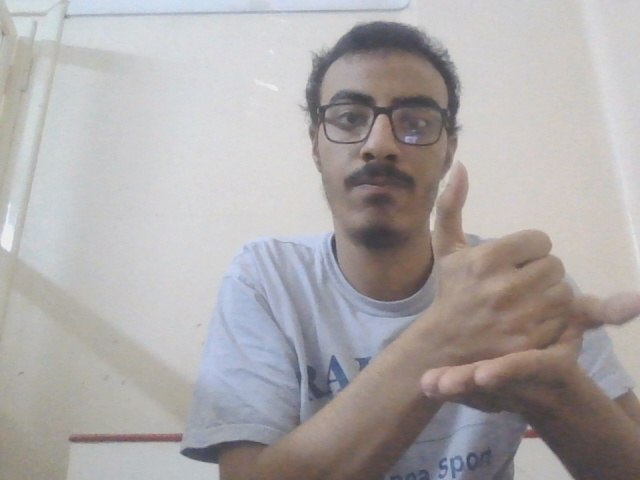Help: (415, 166, 640, 421)
